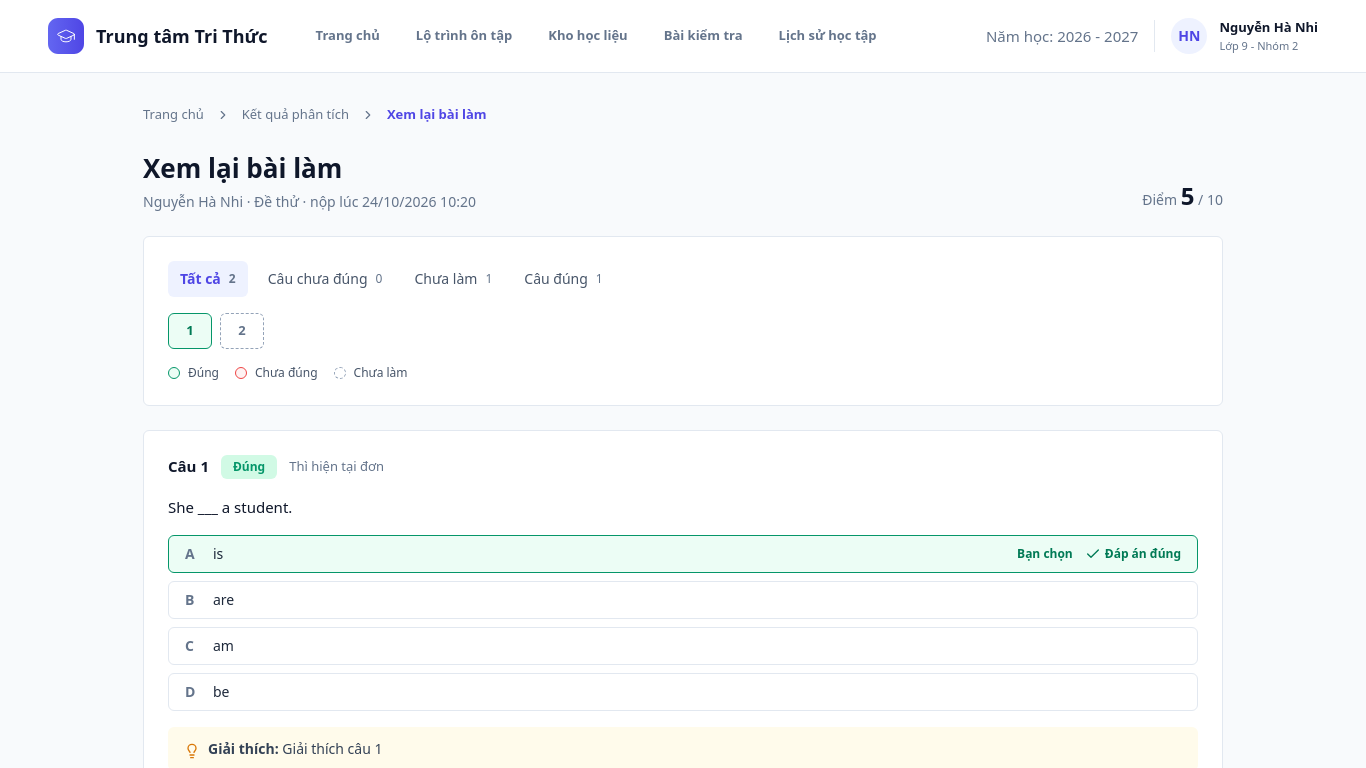
Test: xem lại bài làm: lọc câu sai / chưa làm, hiện đáp án đúng và giải thích
The image size is (1366, 768).
Expected: the link named "Câu 1: Đúng" is shown, [168, 312, 212, 348]
Expected: the link named "Câu 2: Chưa làm" is shown, [220, 312, 264, 348]
Click the button "Chưa làm 1" at (453, 278), box [402, 260, 504, 296]
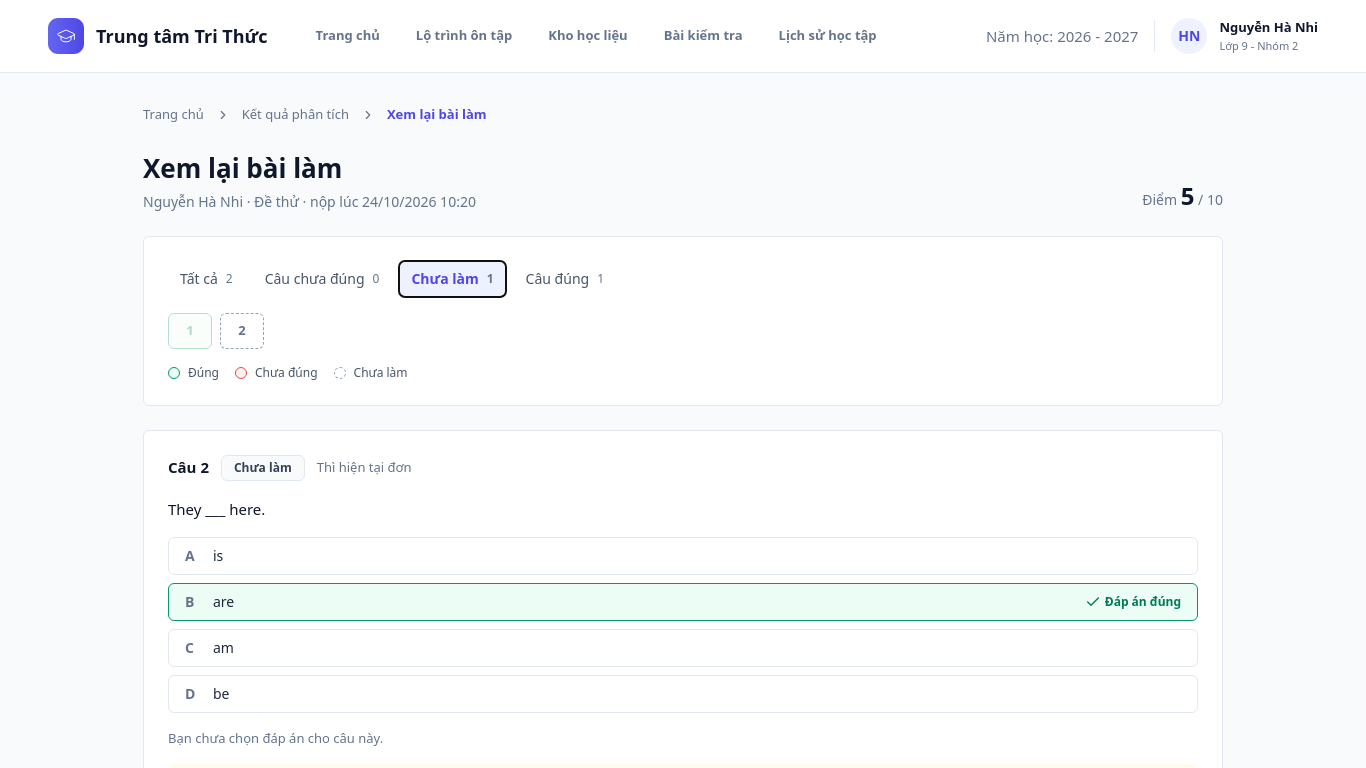
Expected: the heading "Câu 2" is shown, [168, 456, 209, 479]
Expected: the heading "Câu 1" is gone
Click the button "Câu chưa đúng 0" at (322, 278), box [253, 260, 391, 296]
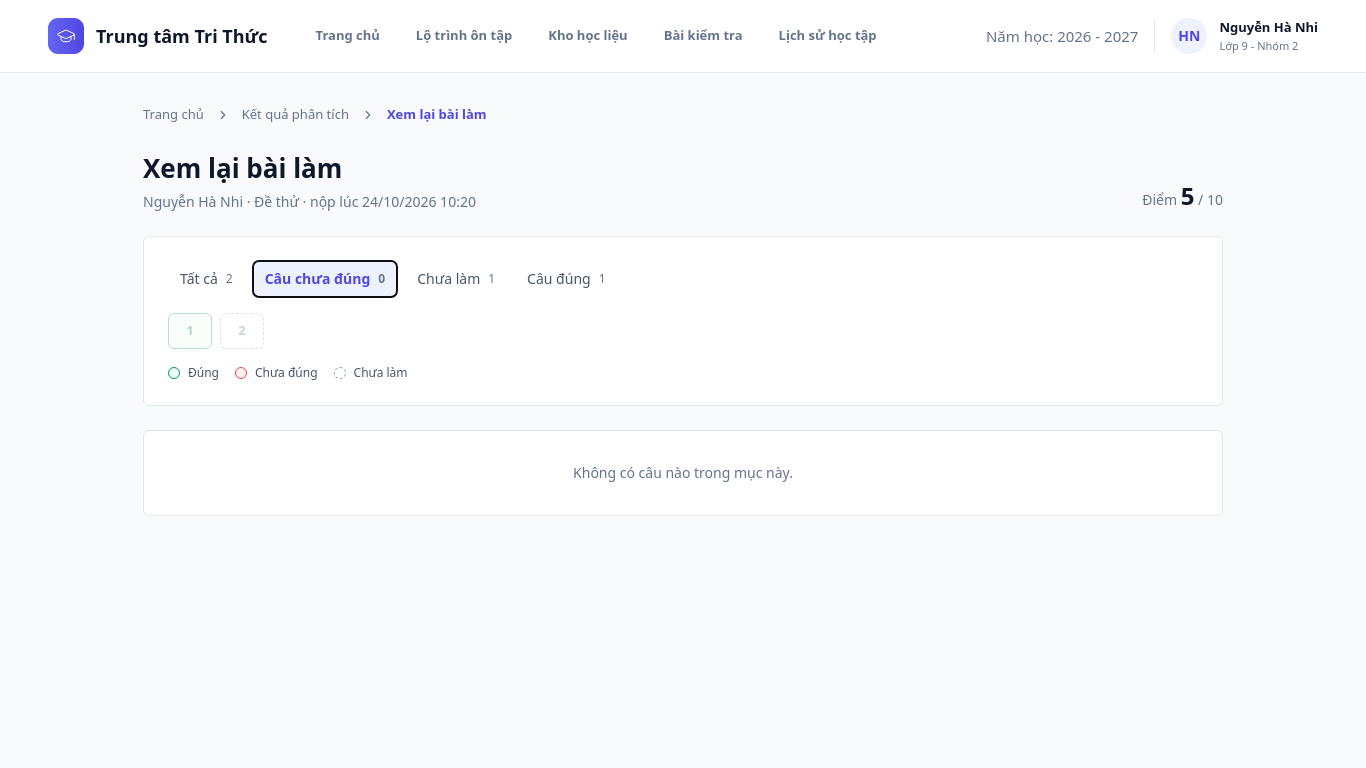
Expected: the text "Không có câu nào trong mục này." is shown, [143, 430, 1223, 516]
